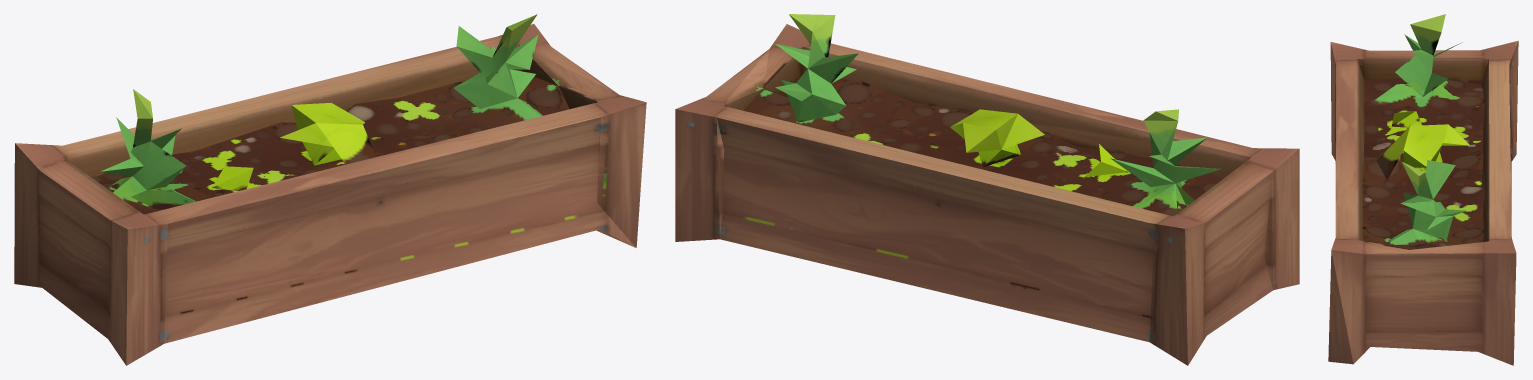
File: planter_box_lod0.glb
The picture shows the model from 3 angles, left to right: view 1: azimuth 30°, elevation 25°; view 2: azimuth 150°, elevation 25°; view 3: azimuth 270°, elevation 25°; orthographic projection. The views are drawn at different scales.
Visible parts, largest first — view 1: low; view 2: low; view 3: low.
Part boxes in pixels (x1,y1,x2,y2): low: (14,14,646,365); low: (675,14,1299,365); low: (1328,14,1518,365).
Bounding box in the file's own units: 1.2 × 0.4655 × 0.4598.
1 material, 1 textured.
